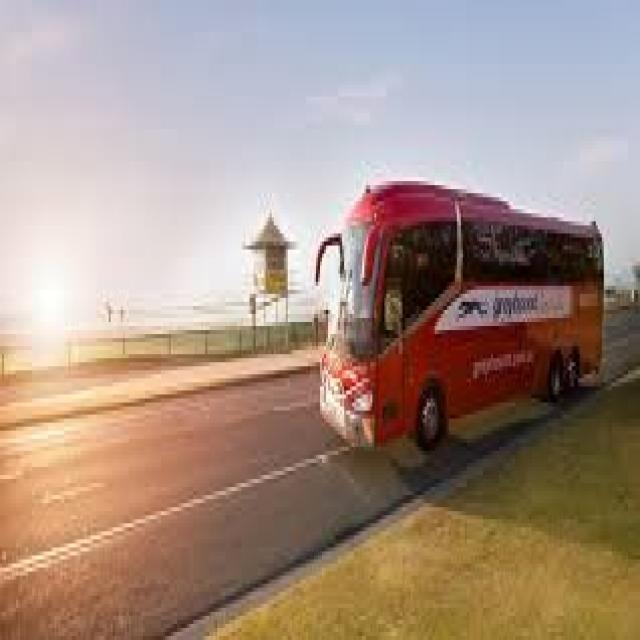bus: (299, 149, 622, 453)
